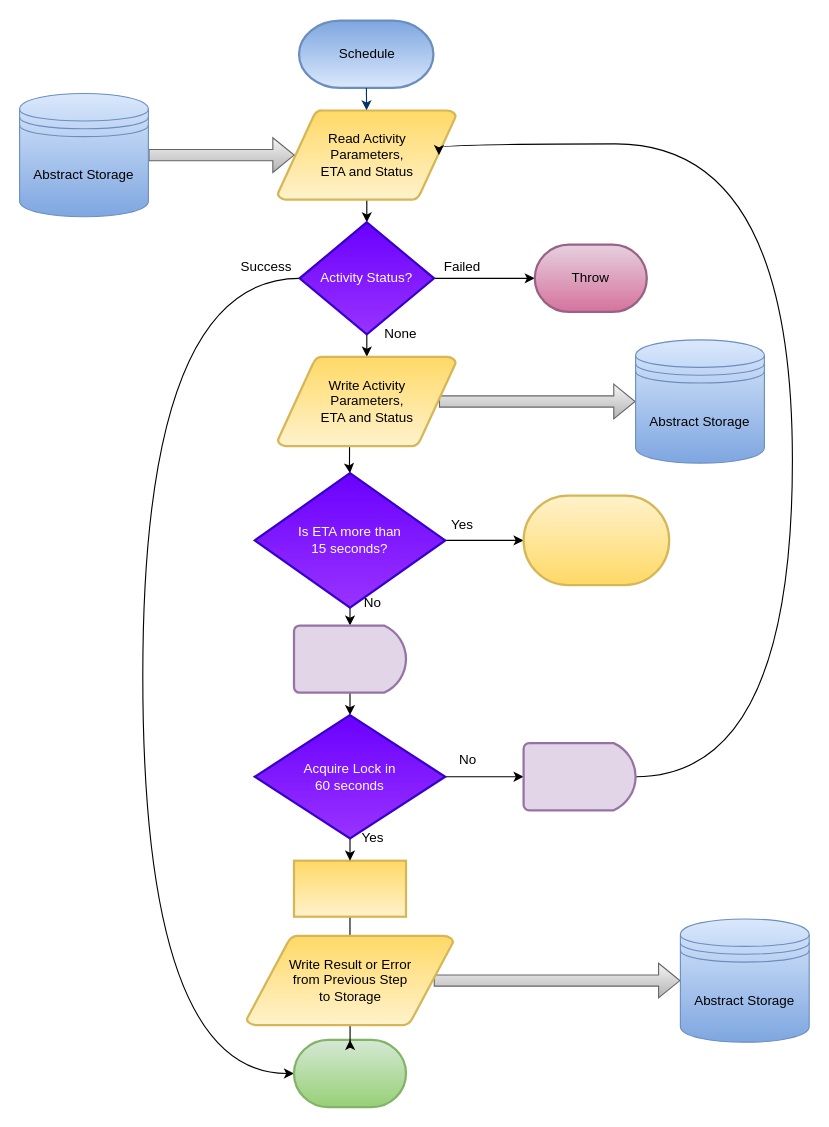
This 829x1127 diagram has some shape labels left out. The centre of each missing label's shape, as x and y in pixels:
Delay for 60 Seconds: the point at 579,776
Delay till ETA: the point at 349,658
Execute the Method: the point at 349,888
Return: the point at 349,1073
Suspend Context will restart at ETA: the point at 596,540
